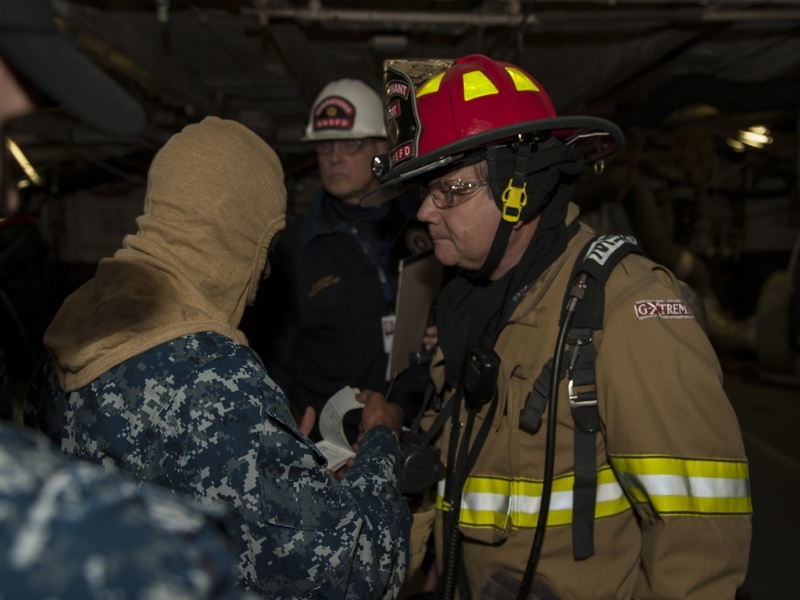Baret: (361, 54, 623, 183)
Gozluk: (405, 177, 493, 206)
